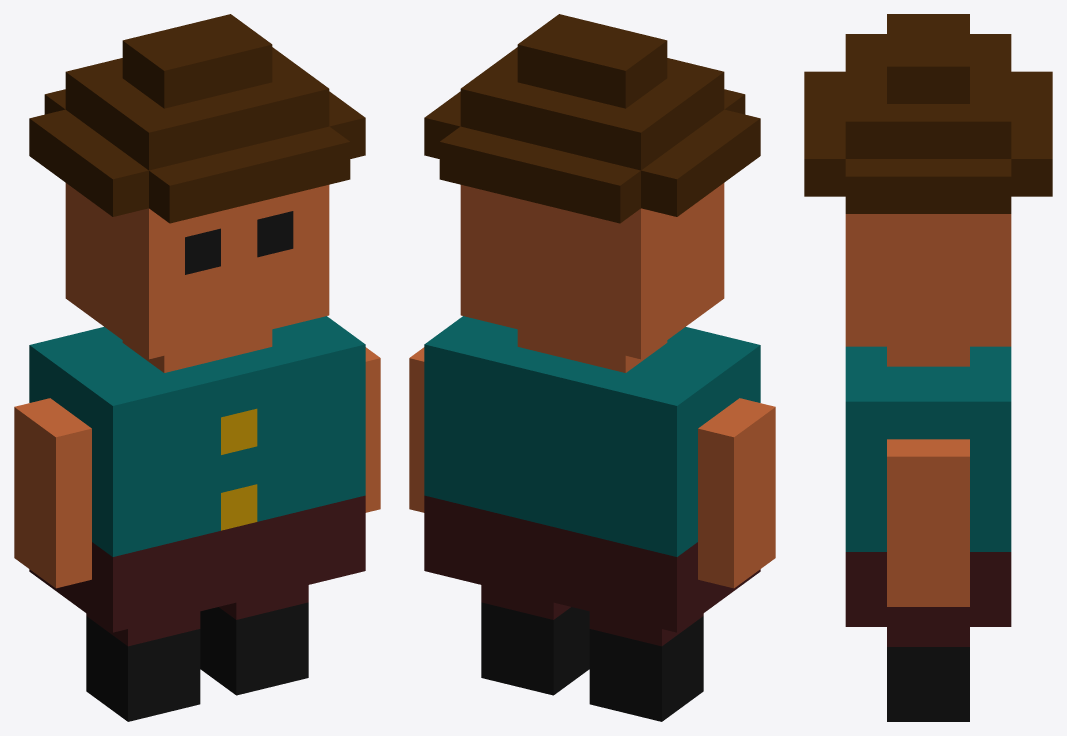
The model's file is customer_man.obj.
The picture shows the model from 3 angles, left to right: view 1: azimuth 30°, elevation 25°; view 2: azimuth 150°, elevation 25°; view 3: azimuth 270°, elevation 25°; orthographic projection.
Parts seen in each view (by area): view 1: customer_man; view 2: customer_man; view 3: customer_man.
Part boxes in pixels (left/top/right/bottom): customer_man: left=14, top=14, right=380, bottom=721; customer_man: left=409, top=14, right=775, bottom=721; customer_man: left=804, top=14, right=1052, bottom=721.
Bounding box in the file's own units: 9 × 17 × 6.
1 material, 1 textured.
